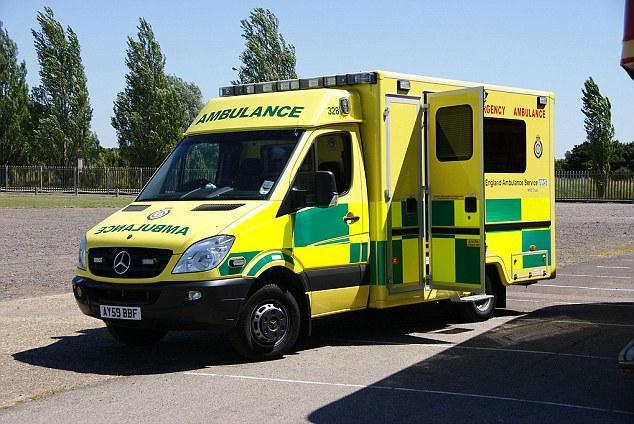Ambulance: (193, 105, 306, 130), (92, 218, 190, 246)
